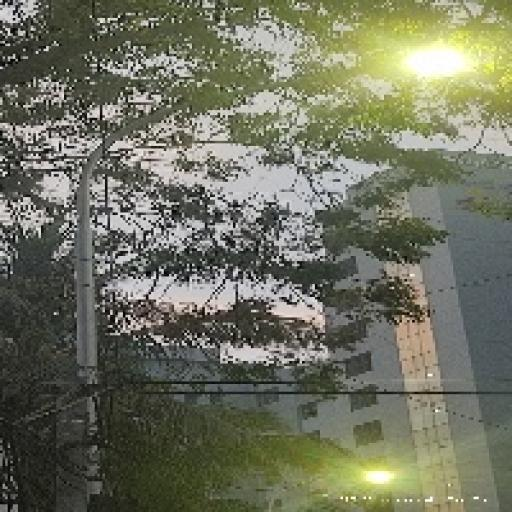Working: (392, 38, 476, 88), (358, 461, 401, 494)
